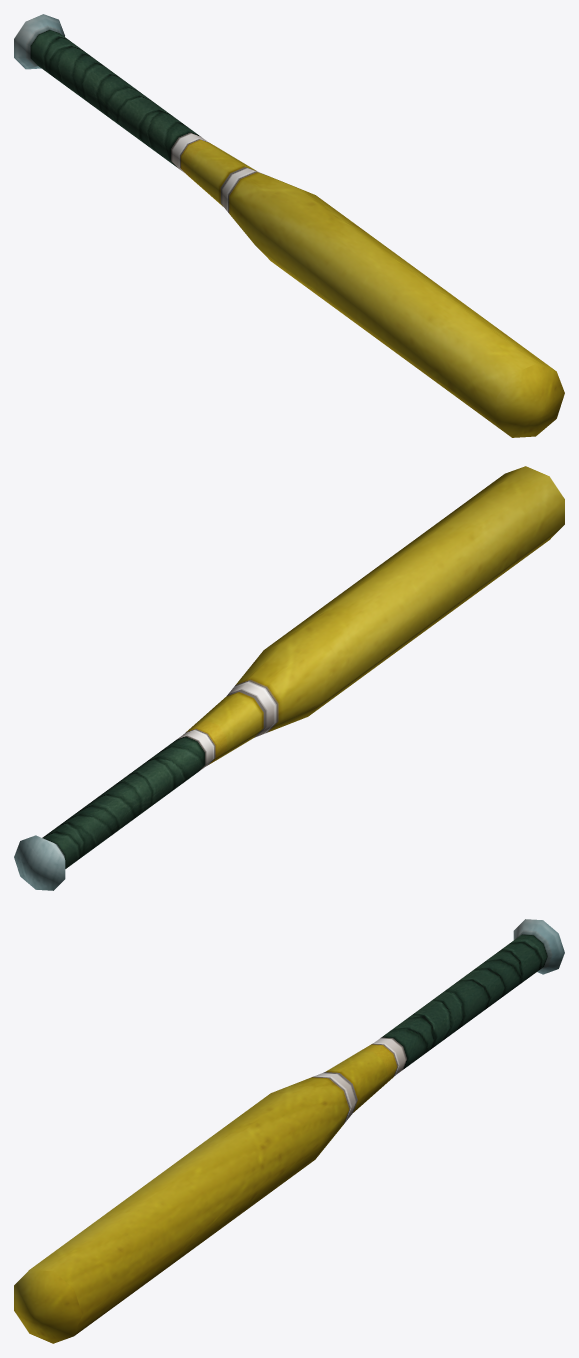
File: PiErSenGongYu_01_bangqiugun_01.FBX
The picture shows the model from 3 angles, top to bottom: view 1: azimuth 30°, elevation 25°; view 2: azimuth 150°, elevation 25°; view 3: azimuth 330°, elevation 25°; orthographic projection.
Parts seen in each view (by area): view 1: PiErSenDeGongYu_bangqiugun_01; view 2: PiErSenDeGongYu_bangqiugun_01; view 3: PiErSenDeGongYu_bangqiugun_01.
Boxes of the visible parts, x1,y1,x2,y2 form: PiErSenDeGongYu_bangqiugun_01: [14, 14, 564, 437]; PiErSenDeGongYu_bangqiugun_01: [14, 466, 564, 890]; PiErSenDeGongYu_bangqiugun_01: [14, 919, 564, 1343].
Size of the model in its own units: 28.62 by 29.06 by 368.
